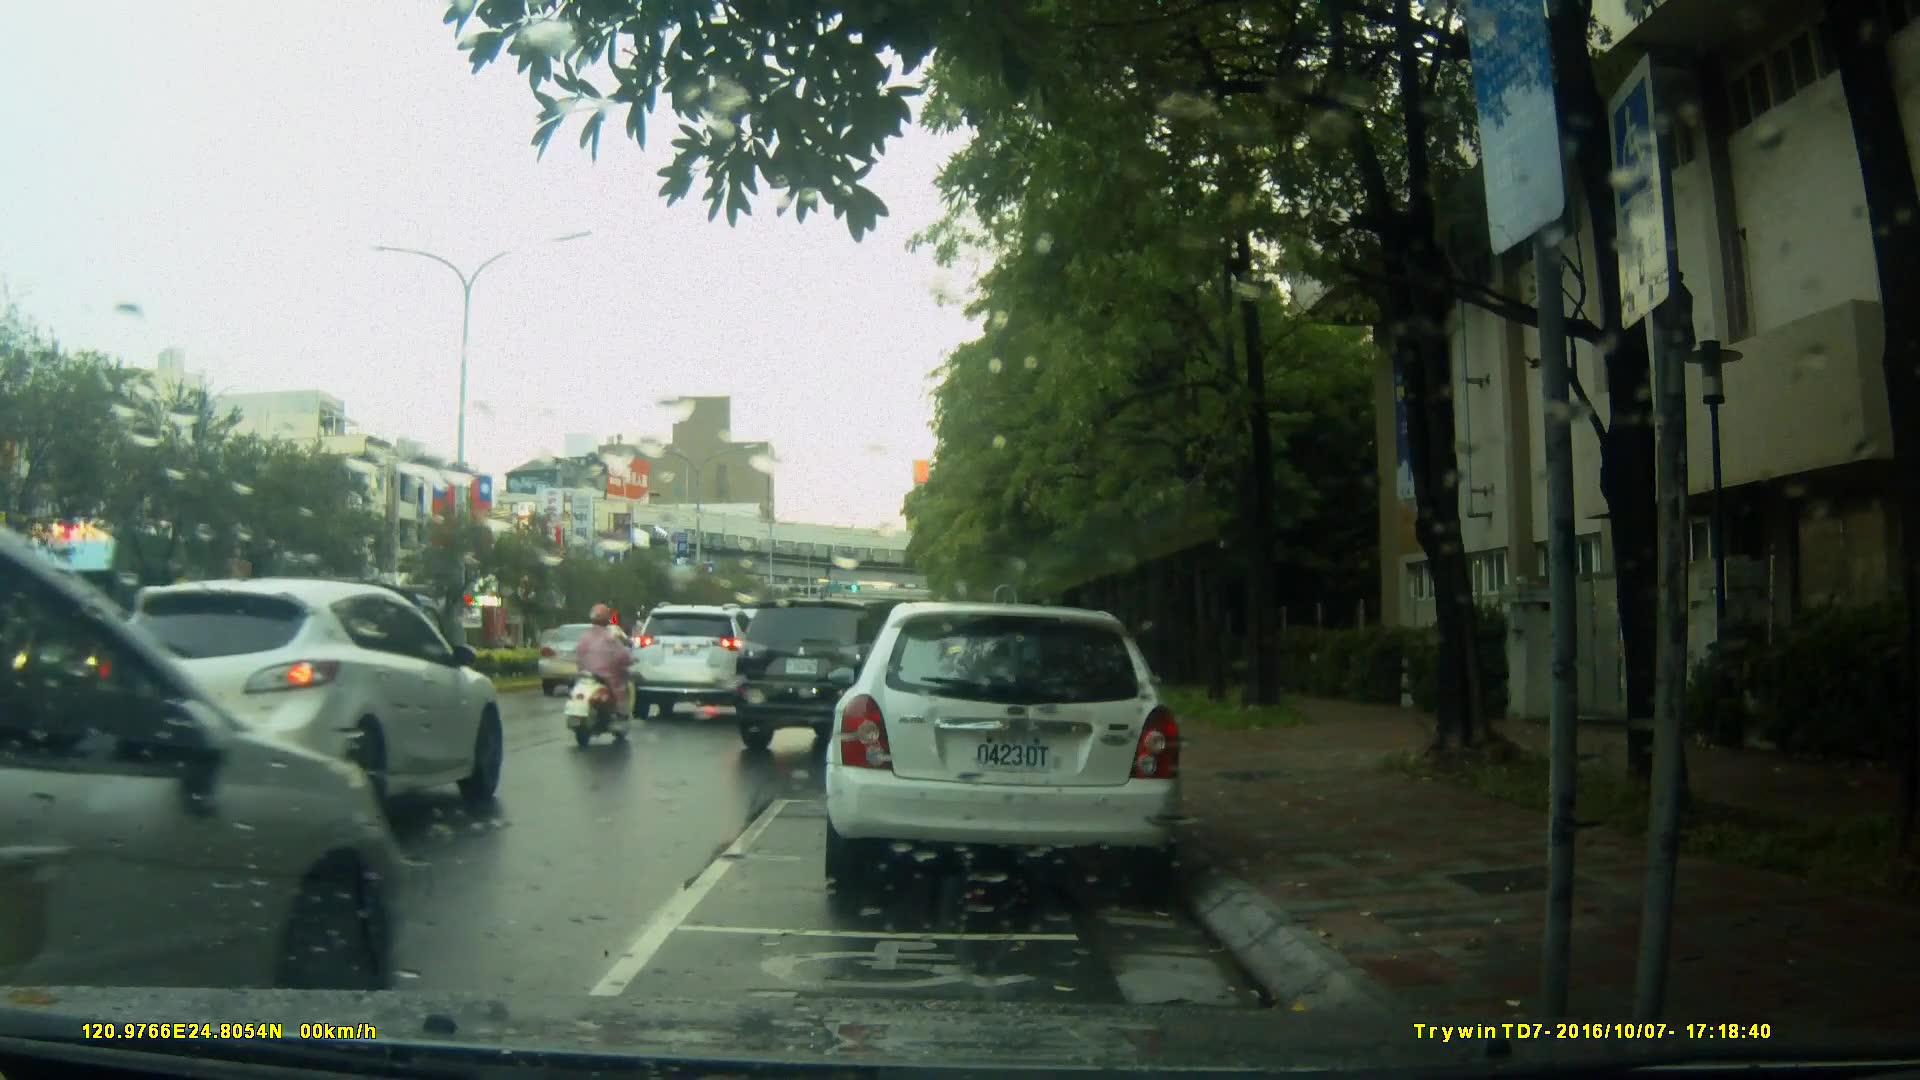rider: (568, 601, 645, 753)
vehicle: (1, 506, 418, 992), (94, 574, 510, 840), (820, 602, 1188, 898), (729, 597, 968, 757), (629, 604, 774, 723), (536, 620, 640, 698)
